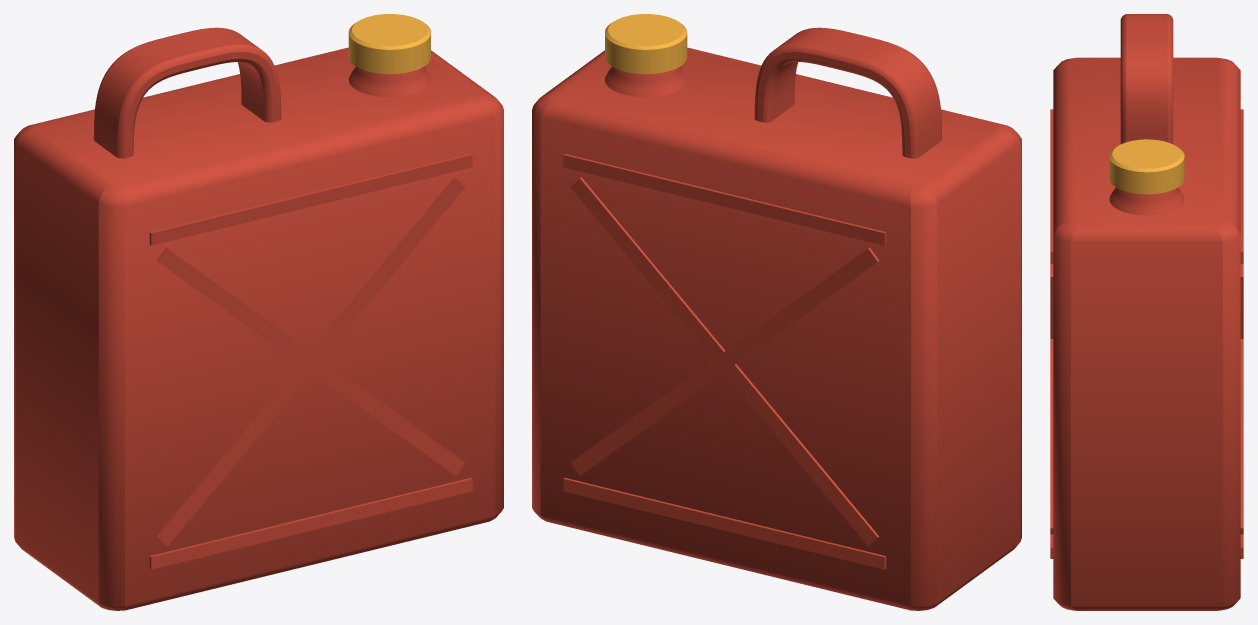
Rendered from container_jerrycan.glb.
3 renders of one model, left to right at view 1: azimuth 30°, elevation 25°; view 2: azimuth 150°, elevation 25°; view 3: azimuth 270°, elevation 25°, orthographic. The views are drawn at different scales.
Parts seen in each view (by area): view 1: Body, Handle, Cap; view 2: Body, Handle, Cap; view 3: Body, Handle, Cap.
Part boxes in pixels (bbox=[...]): Body: bbox=[14, 47, 503, 610]; Handle: bbox=[93, 27, 281, 158]; Cap: bbox=[348, 14, 430, 74]; Body: bbox=[532, 47, 1021, 610]; Handle: bbox=[754, 27, 942, 158]; Cap: bbox=[605, 14, 687, 74]; Body: bbox=[1050, 57, 1243, 610]; Handle: bbox=[1120, 14, 1173, 143]; Cap: bbox=[1109, 139, 1184, 194].
Size of the model in its own units: 0.3393 by 0.4089 by 0.154.
